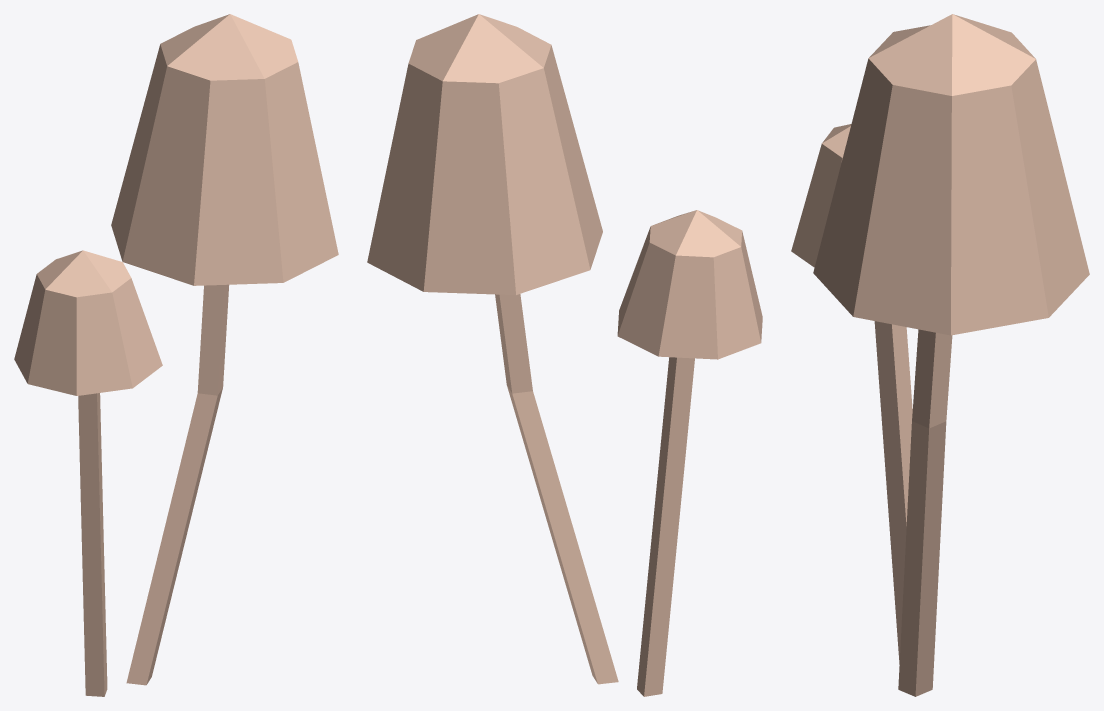
The model's file is Mushroom_b_06.fbx.
The picture shows the model from 3 angles, left to right: view 1: azimuth 30°, elevation 25°; view 2: azimuth 150°, elevation 25°; view 3: azimuth 270°, elevation 25°; orthographic projection. The views are drawn at different scales.
Parts seen in each view (by area): view 1: Mushroom_b_06; view 2: Mushroom_b_06; view 3: Mushroom_b_06.
Part boxes in pixels (x1=…): Mushroom_b_06: x1=14, y1=14, x2=338, y2=696; Mushroom_b_06: x1=367, y1=14, x2=762, y2=696; Mushroom_b_06: x1=791, y1=14, x2=1089, y2=696.
Bounding box in the file's own units: 0.2281 × 0.4109 × 0.1505.
